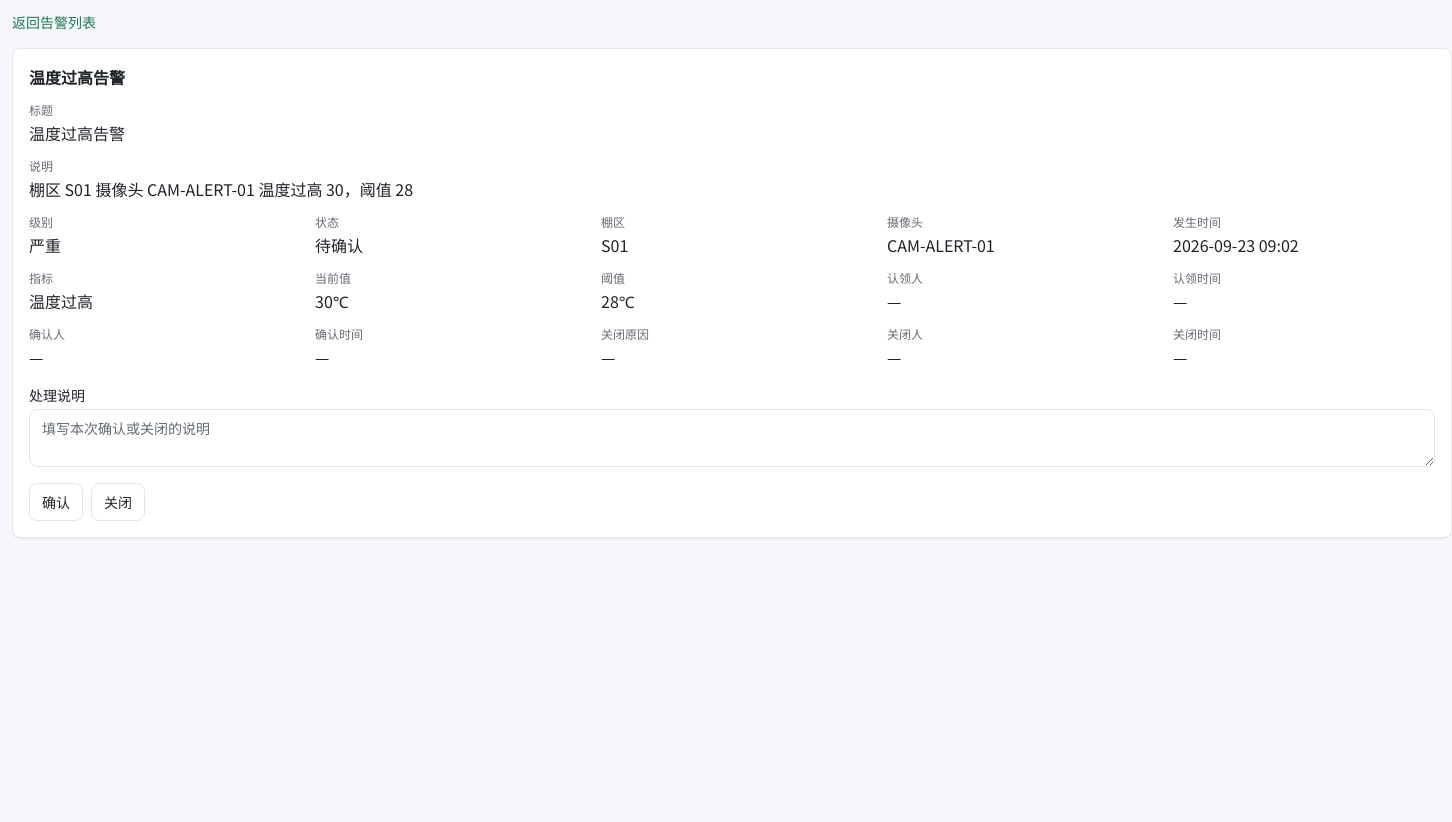
it: AlertDetailView › keeps the pending alert on screen when confirm fails
Type "已确认" into the text box with test id "alert-handle-note". click: (732, 438)
box: [29,409,1435,467]
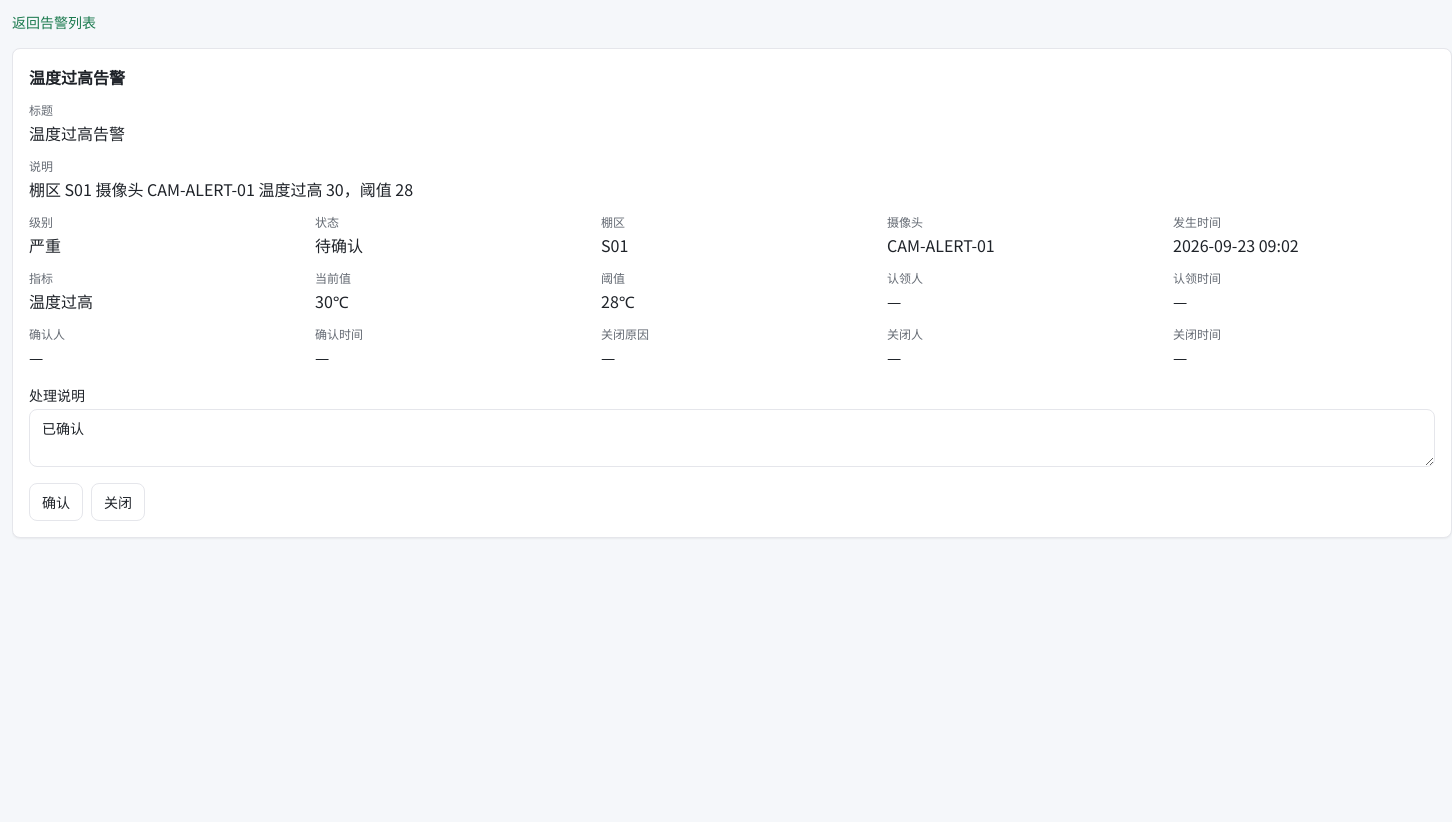
Click the button with test id "alert-ack". click: (56, 502)
box: [29,483,83,521]
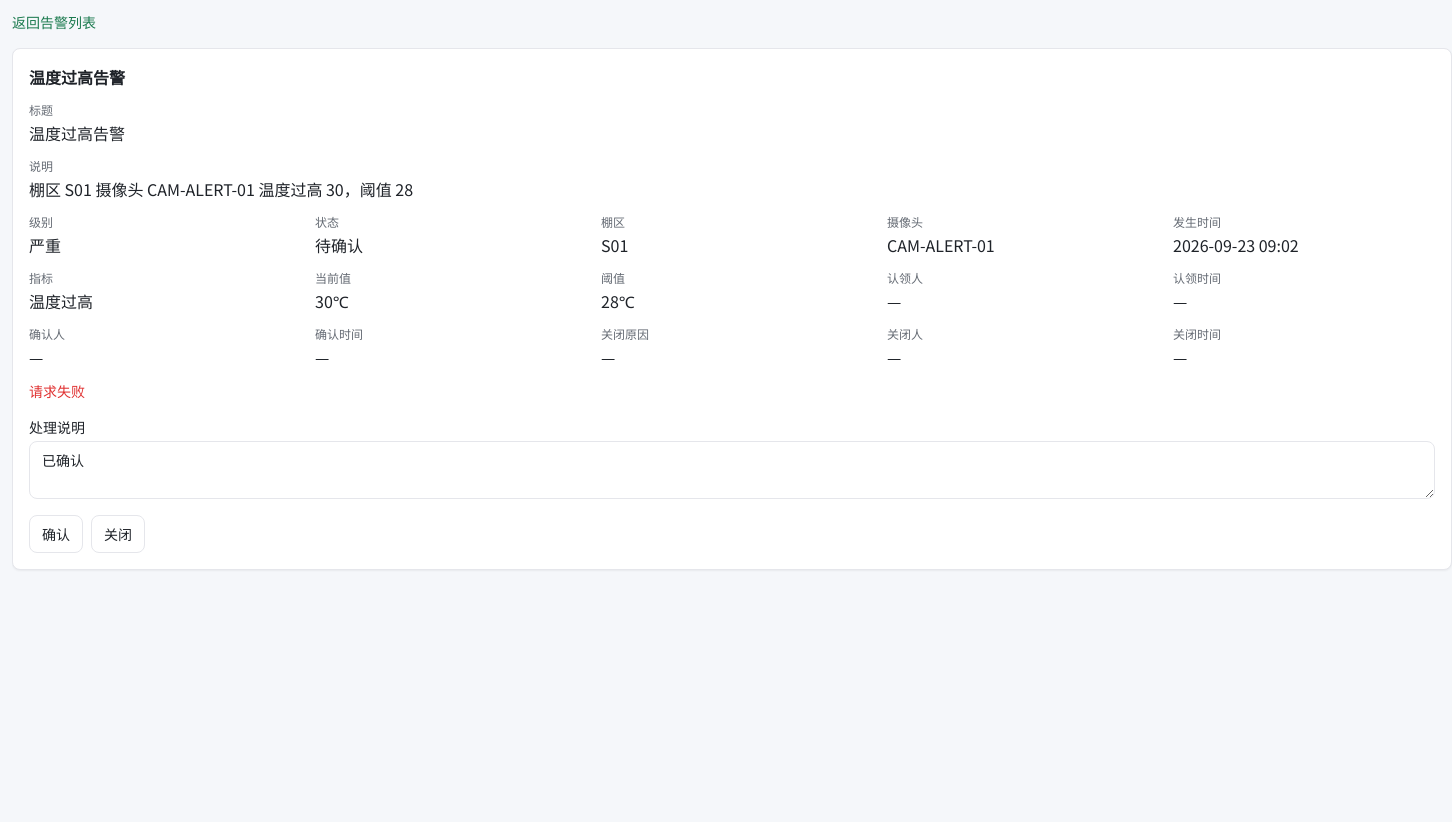
Expected: the text "待确认" is shown, [315,233,363,257]
Now the text with test id "alert-action-error" reads "请求失败", box [29,381,85,401]
